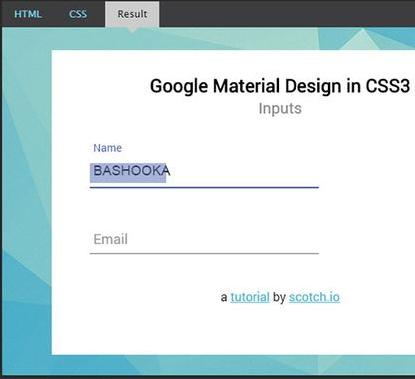field_line: (87, 160, 322, 191), (87, 230, 324, 256)
field_line_with_label: (85, 143, 325, 192)
